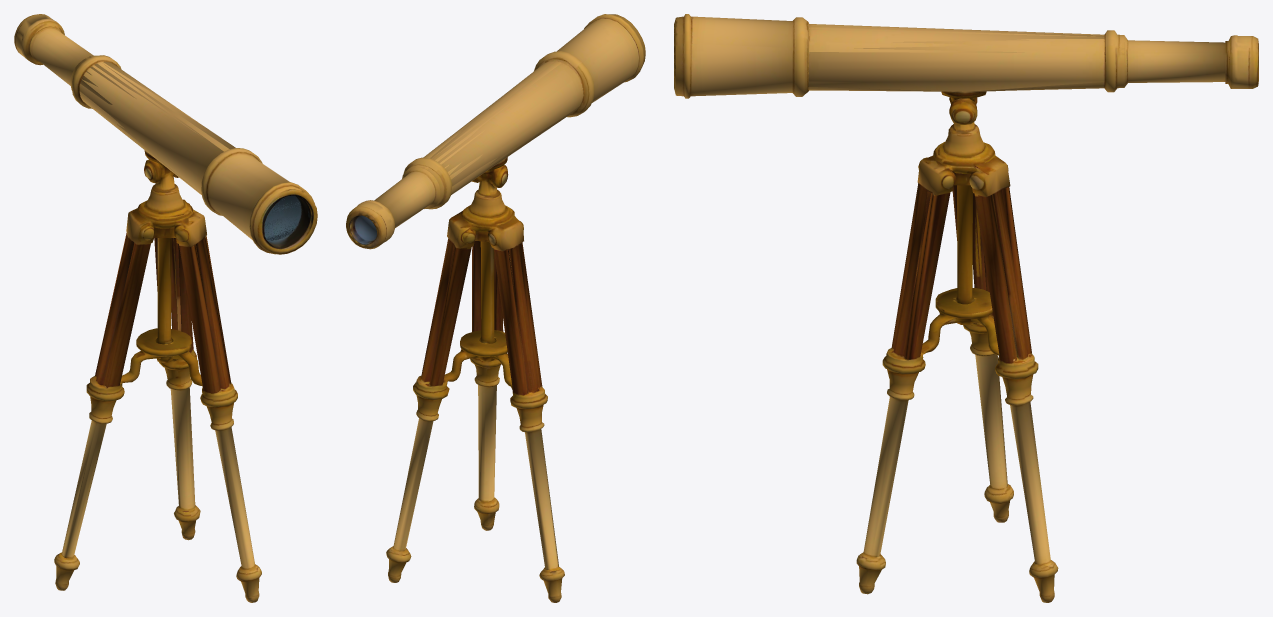
File: a_brass_telescope_368f68ab_v4.glb
3 renders of one model, left to right at view 1: azimuth 30°, elevation 25°; view 2: azimuth 150°, elevation 25°; view 3: azimuth 270°, elevation 25°, orthographic. The views are drawn at different scales.
Parts seen in each view (by area): view 1: material; view 2: material; view 3: material.
Boxes of the visible parts, left/top/right/bottom form: material: left=14, top=14, right=317, bottom=602; material: left=346, top=14, right=645, bottom=602; material: left=674, top=14, right=1258, bottom=602.
Size of the model in its own units: 0.66 by 1.9 by 1.83.
Materials: 1 (1 with a texture image).
